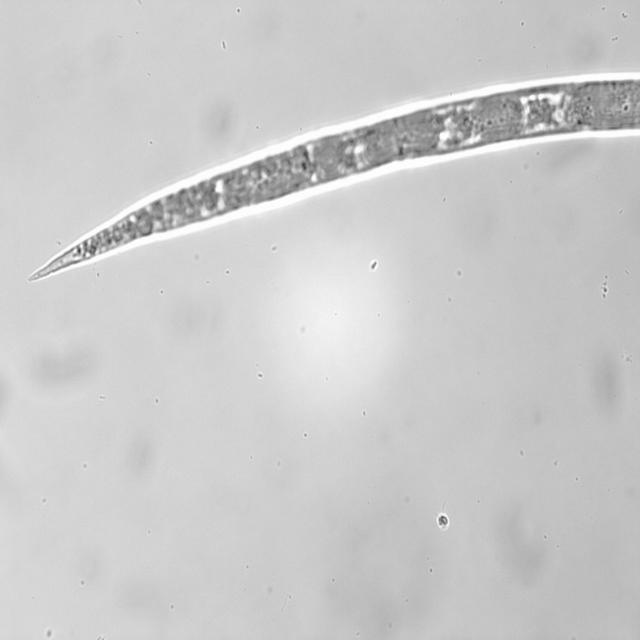Meloidogyne: (23, 66, 640, 286)
